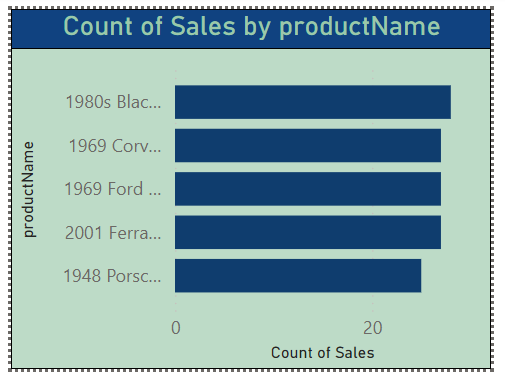

The dashboard page shown, as its layout file describes it:
{"tool":"powerbi","page":{"name":"Tooltip1","canvas":[320,240],"ordinal":1},"visuals":[{"type":"barChart","fields":{"Y":["CountNonNull(Order_Details.Sales)"],"Category":["Products_Table.productName"]},"box":[0,0,320,240],"z":0}]}

Visuals, with their boxes in screenshot pixels (x1, y1, x2, y2), scaled from the page's 320x240 canvas onto the 505x378 screenshot:
barChart - CountNonNull(Order_Details.Sales) x Products_Table.productName: 0:0:504:377
